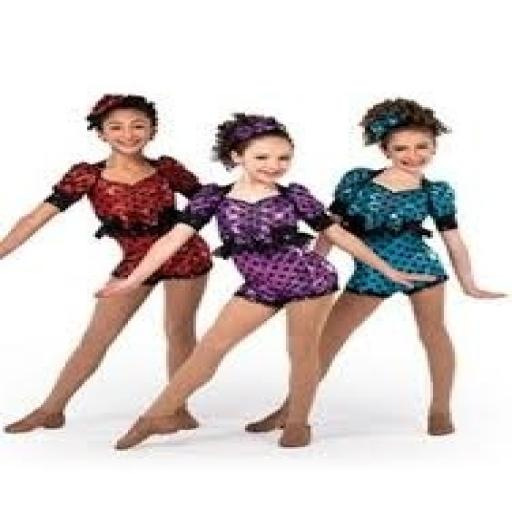dancing: (106, 109, 425, 453), (242, 96, 510, 443), (0, 92, 218, 438)
